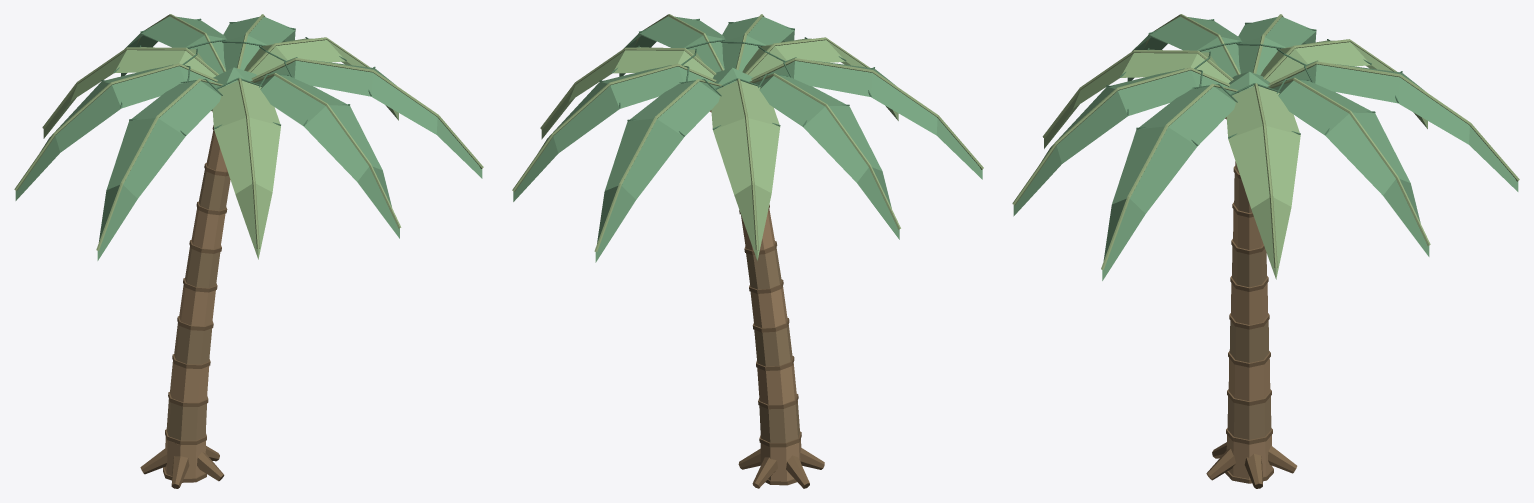
File: tree_windswept_palm.glb
3 renders of one model, left to right at view 1: azimuth 30°, elevation 25°; view 2: azimuth 150°, elevation 25°; view 3: azimuth 270°, elevation 25°, orthographic. The views are drawn at different scales.
Visible parts, largest first — view 1: tree_windswept_palm; view 2: tree_windswept_palm; view 3: tree_windswept_palm.
Part boxes in pixels (box(x1,y1,x2,y2)): tree_windswept_palm: box(14, 14, 483, 488); tree_windswept_palm: box(512, 14, 983, 488); tree_windswept_palm: box(1012, 14, 1519, 488).
Bounding box in the file's own units: 3.46 × 3.58 × 3.75.
